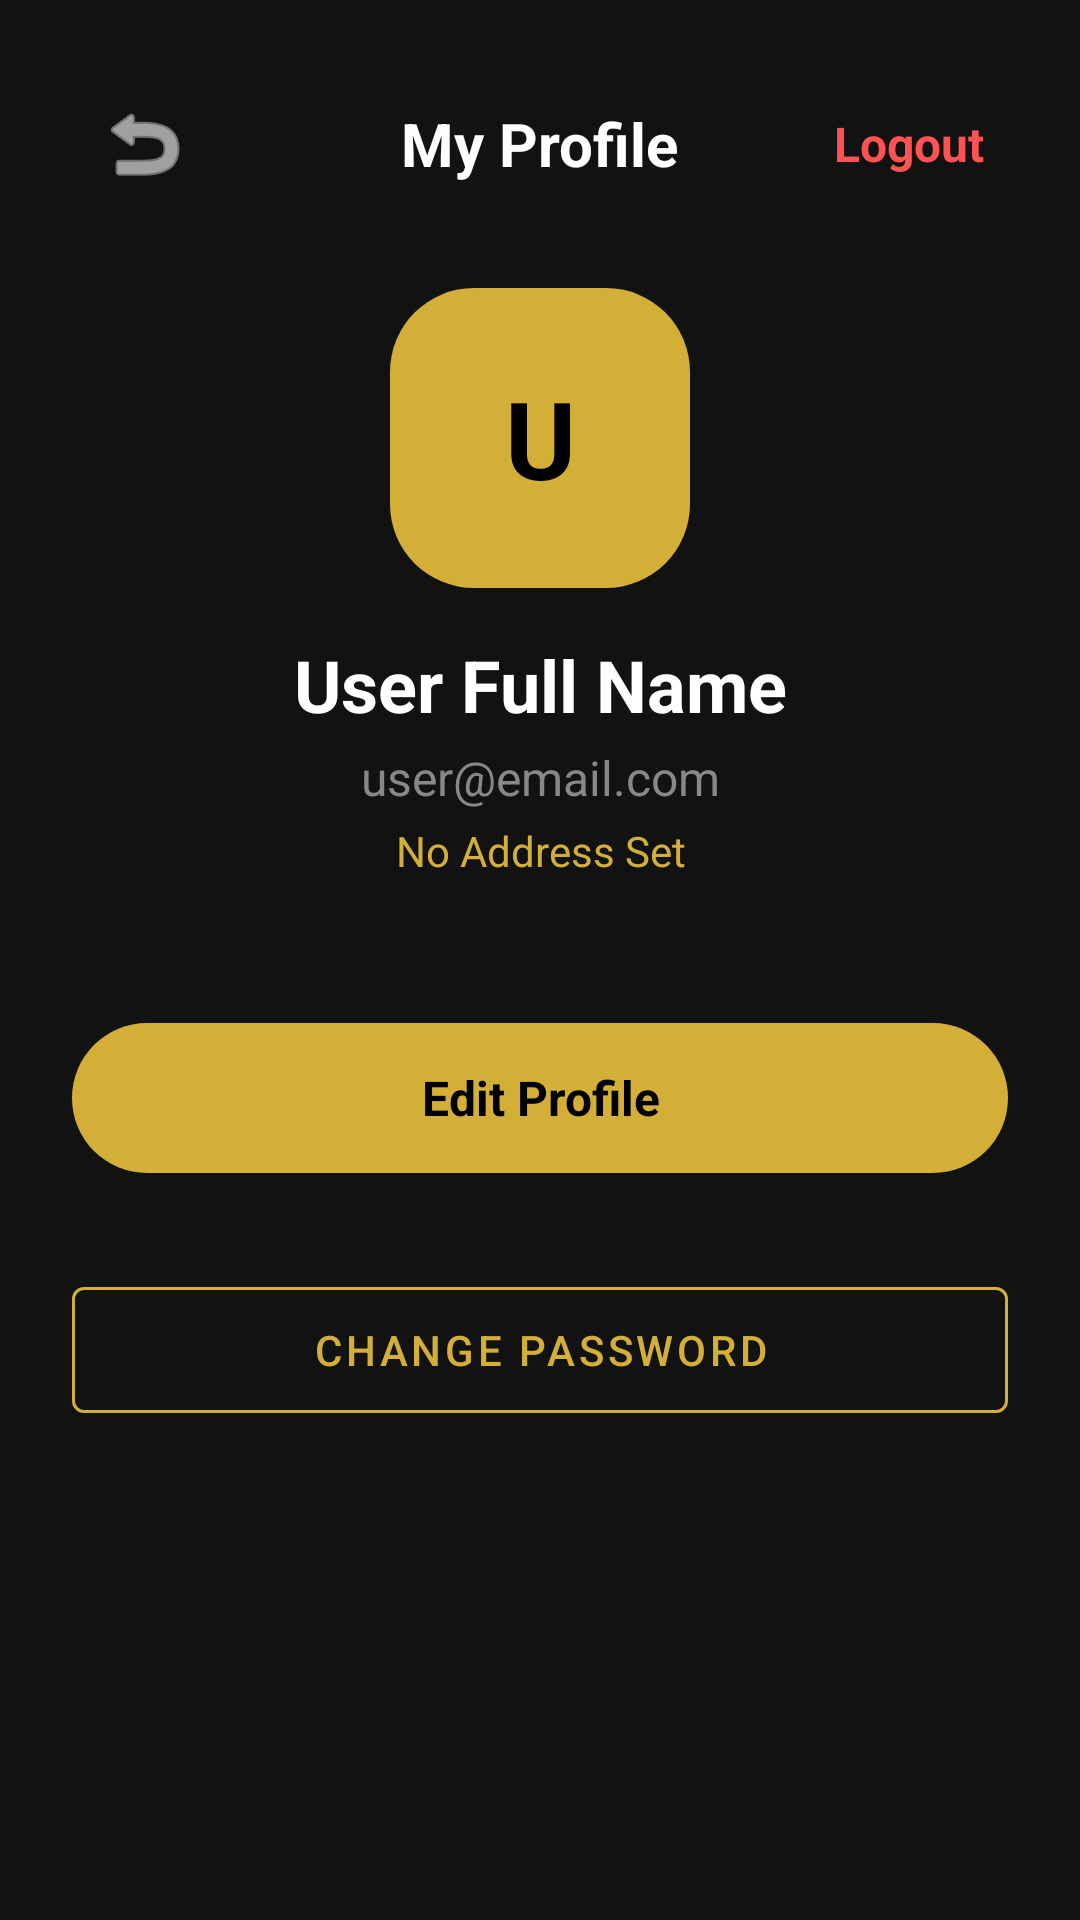

Screen size 1080w x 1920h. Icon name, then its center in pixels as (x=x, y=y):
Go Back: (x=145, y=144)
